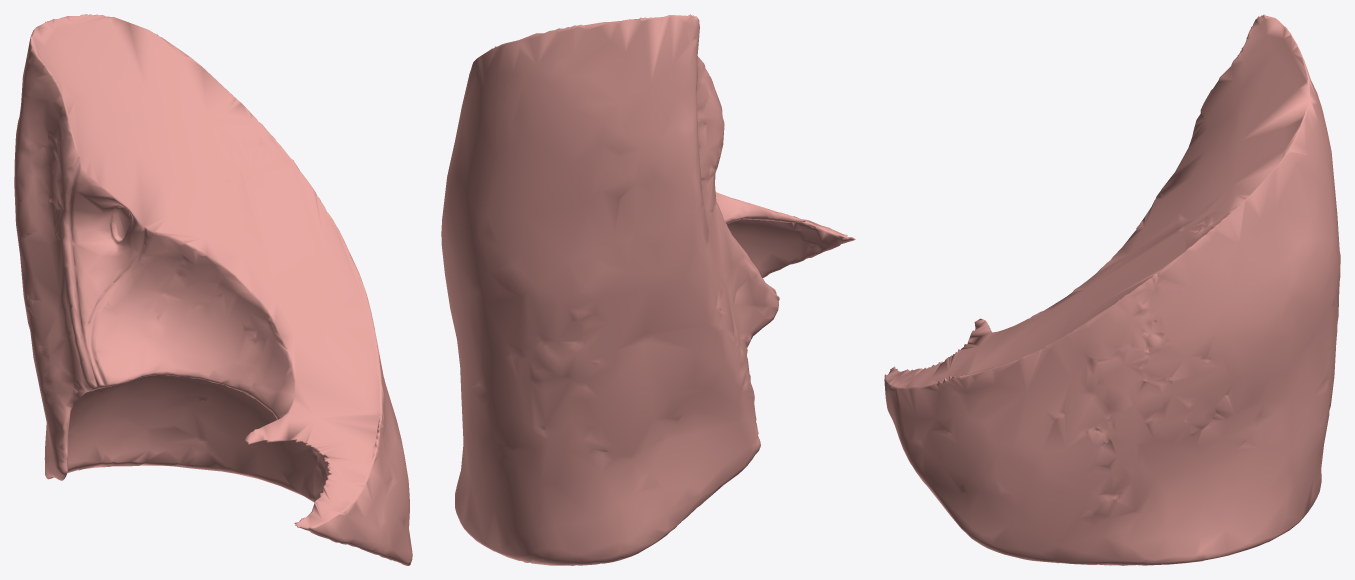
File: Inferior_lobe_left_lung.glb
3 views of the same model, side by side, from view 1: azimuth 30°, elevation 25°; view 2: azimuth 150°, elevation 25°; view 3: azimuth 270°, elevation 25° (orthographic). The views are drawn at different scales.
Visible parts, largest first — view 1: Inferior_lobe_of_left_lung_Generated_Mesh_From_X3D.827; view 2: Inferior_lobe_of_left_lung_Generated_Mesh_From_X3D.827; view 3: Inferior_lobe_of_left_lung_Generated_Mesh_From_X3D.827.
Part boxes in pixels (x1=…): Inferior_lobe_of_left_lung_Generated_Mesh_From_X3D.827: x1=14, y1=14, x2=412, y2=565; Inferior_lobe_of_left_lung_Generated_Mesh_From_X3D.827: x1=441, y1=14, x2=855, y2=565; Inferior_lobe_of_left_lung_Generated_Mesh_From_X3D.827: x1=884, y1=14, x2=1340, y2=565.
Bounding box in the file's own units: 0.1129 × 0.1995 × 0.184.
